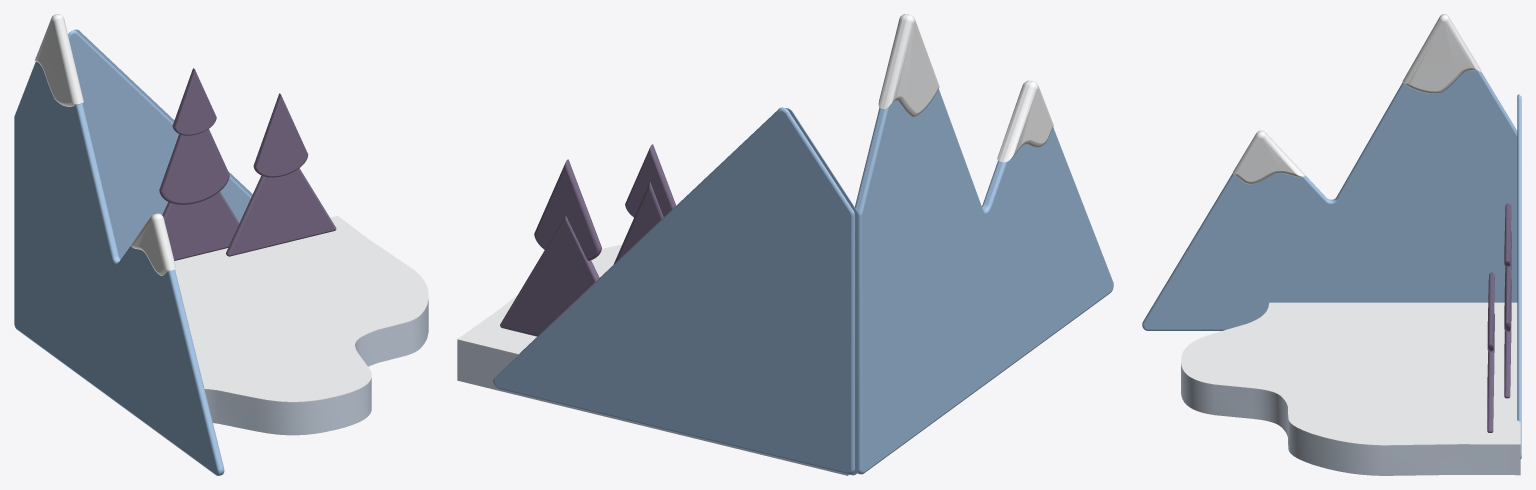
The model's file is scene3-static-output-1.gltf.
3 renders of one model, left to right at view 1: azimuth 30°, elevation 25°; view 2: azimuth 150°, elevation 25°; view 3: azimuth 270°, elevation 25°, orthographic. The views are drawn at different scales.
Parts seen in each view (by area): view 1: Mountains1, Extrude.1, Mountains2, Tree (×2), Extrude, Tree.2 (×2), Snow2, Tree.1, Snow; view 2: Mountains2, Mountains1, Tree, Tree.2 (×2), Snow2, Extrude, Snow, Extrude.1, Tree.1; view 3: Mountains1, Extrude.1, Extrude, Snow2, Snow, Mountains2, Tree (×2), Tree.2 (×2), Tree.1.
Boxes of the visible parts, x1,y1,x2,y2 form: Mountains1: [14, 61, 224, 475]; Extrude.1: [174, 215, 428, 402]; Mountains2: [68, 29, 252, 259]; Tree (×2): [162, 168, 336, 260]; Extrude: [205, 300, 428, 435]; Tree.2 (×2): [159, 93, 308, 204]; Snow2: [34, 14, 83, 106]; Tree.1: [172, 68, 216, 135]; Snow: [130, 213, 175, 275]; Mountains2: [493, 107, 858, 475]; Mountains1: [855, 89, 1113, 474]; Tree: [500, 215, 599, 336]; Tree.2 (×2): [534, 159, 663, 264]; Snow2: [878, 14, 939, 117]; Extrude: [457, 340, 849, 475]; Snow: [997, 80, 1053, 162]; Extrude.1: [457, 244, 621, 354]; Tree.1: [625, 144, 675, 217]; Mountains1: [1142, 70, 1517, 330]; Extrude.1: [1181, 302, 1520, 445]; Extrude: [1181, 364, 1520, 475]; Snow2: [1402, 14, 1481, 93]; Snow: [1233, 130, 1304, 184]; Mountains2: [1517, 94, 1521, 458]; Tree (×2): [1487, 279, 1511, 432]; Tree.2 (×2): [1487, 230, 1511, 351]; Tree.1: [1504, 203, 1511, 266].
Size of the model in its own units: 526 by 524 by 571.
